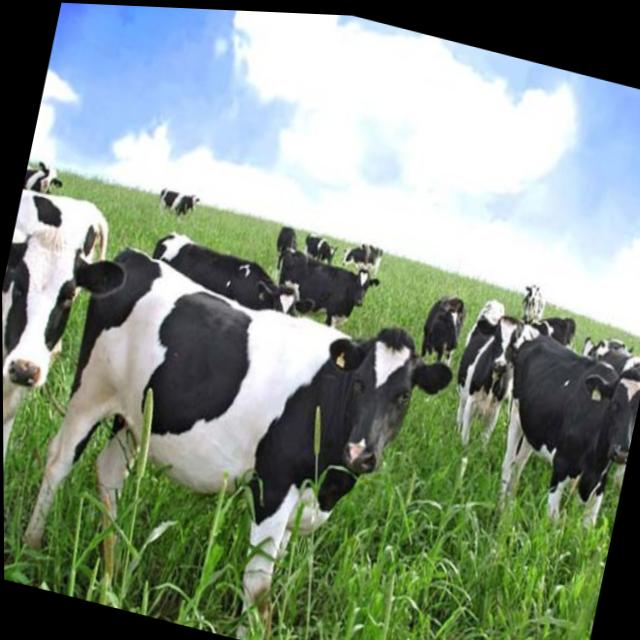cowFace: (297, 301, 465, 497), (1, 220, 134, 417), (563, 347, 640, 469)
